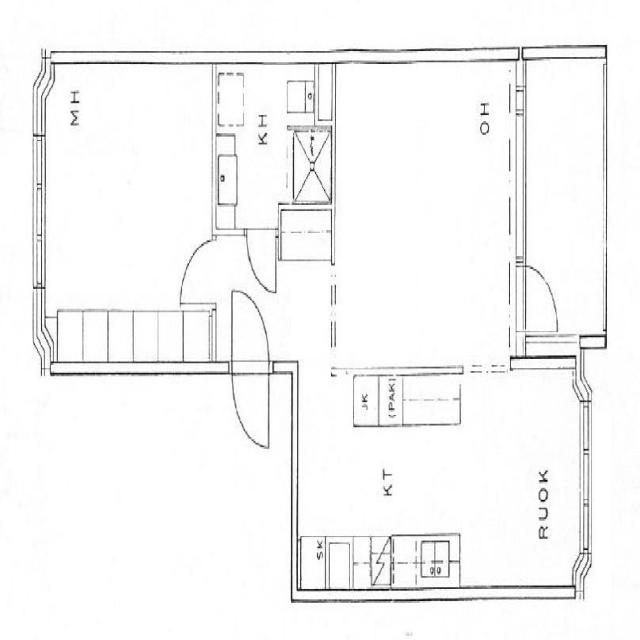door: (335, 56, 509, 373), (229, 286, 272, 452), (176, 232, 218, 312), (523, 258, 560, 336), (244, 225, 280, 298)
window: (28, 124, 51, 298), (578, 398, 594, 559)
zone: (290, 401, 569, 598), (334, 60, 513, 366), (42, 60, 212, 372), (523, 55, 606, 336), (216, 64, 312, 221)
